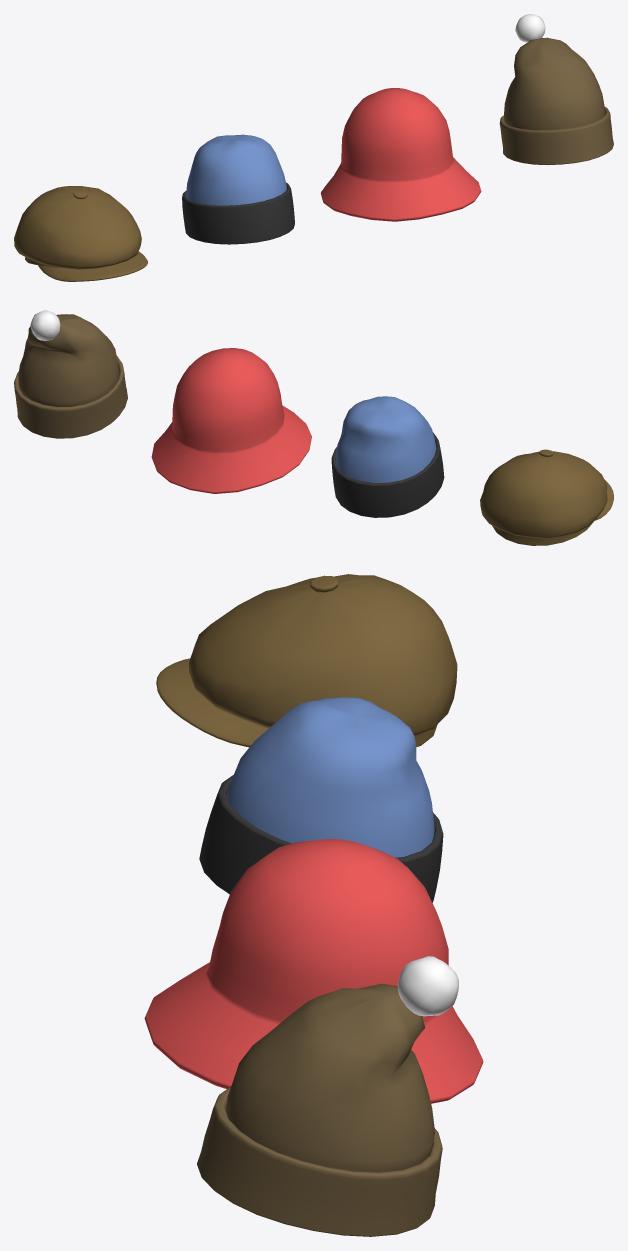
Rendered from showroom_hats.fbx.
The picture shows the model from 3 angles, top to bottom: view 1: azimuth 30°, elevation 25°; view 2: azimuth 150°, elevation 25°; view 3: azimuth 270°, elevation 25°; orthographic projection. The views are drawn at different scales.
Parts seen in each view (by area): view 1: showroom_hat_3, showroom_hat_4, showroom_hat_2, showroom_hat_1; view 2: showroom_hat_3, showroom_hat_4, showroom_hat_2, showroom_hat_1; view 3: showroom_hat_4, showroom_hat_3, showroom_hat_1, showroom_hat_2.
Part boxes in pixels (box(x1,y1,x2,y2)): showroom_hat_3: box(320, 88, 481, 221); showroom_hat_4: box(499, 14, 613, 165); showroom_hat_2: box(182, 134, 294, 244); showroom_hat_1: box(14, 186, 147, 281); showroom_hat_3: box(151, 348, 311, 493); showroom_hat_4: box(14, 310, 127, 438); showroom_hat_2: box(331, 396, 444, 517); showroom_hat_1: box(480, 449, 613, 545); showroom_hat_4: box(197, 956, 458, 1236); showroom_hat_3: box(144, 839, 483, 1103); showroom_hat_1: box(156, 574, 457, 747); showroom_hat_2: box(199, 697, 443, 902).
Bounding box in the file's own units: 92.54 × 20.07 × 23.59.
